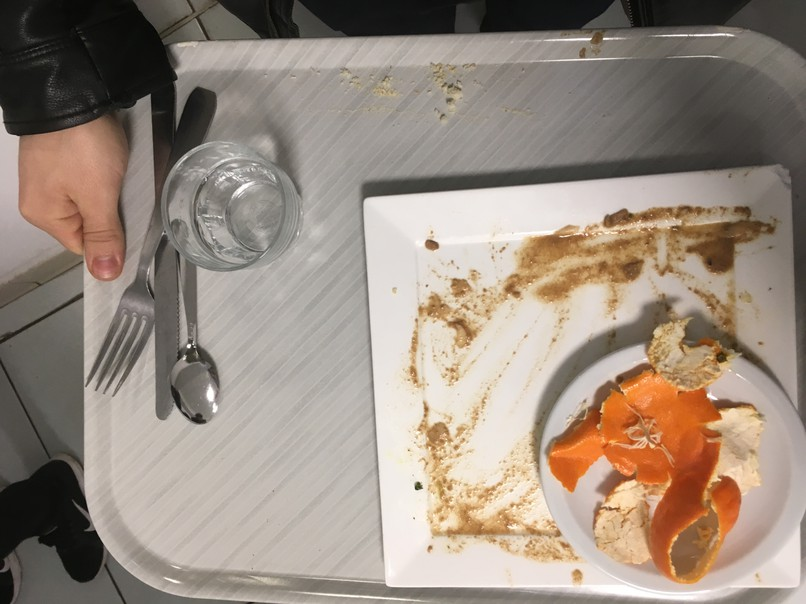cup: (160, 133, 306, 276)
cutlery: (98, 65, 228, 454)
orga: (579, 338, 770, 574)
